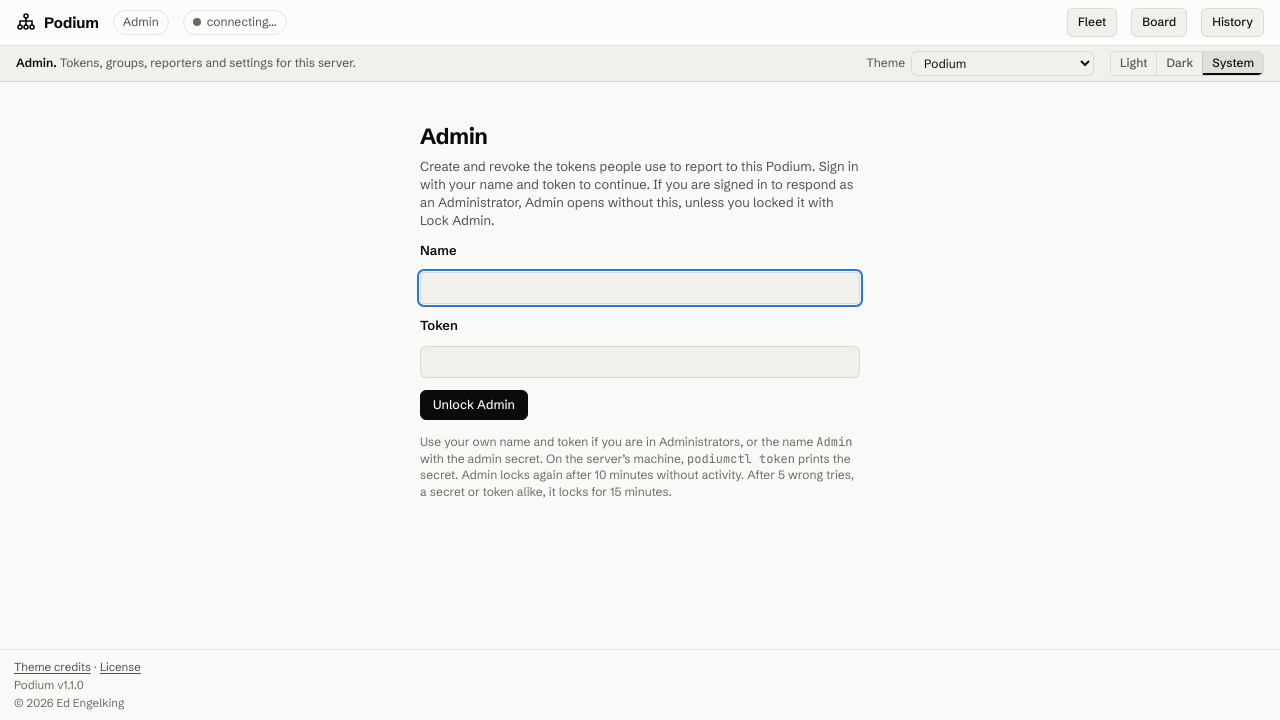
Admin lock screen › asks for the name as well when only a token is typed
In the password field labelled "Token": point(640, 362) [420, 346, 860, 378], type "right"
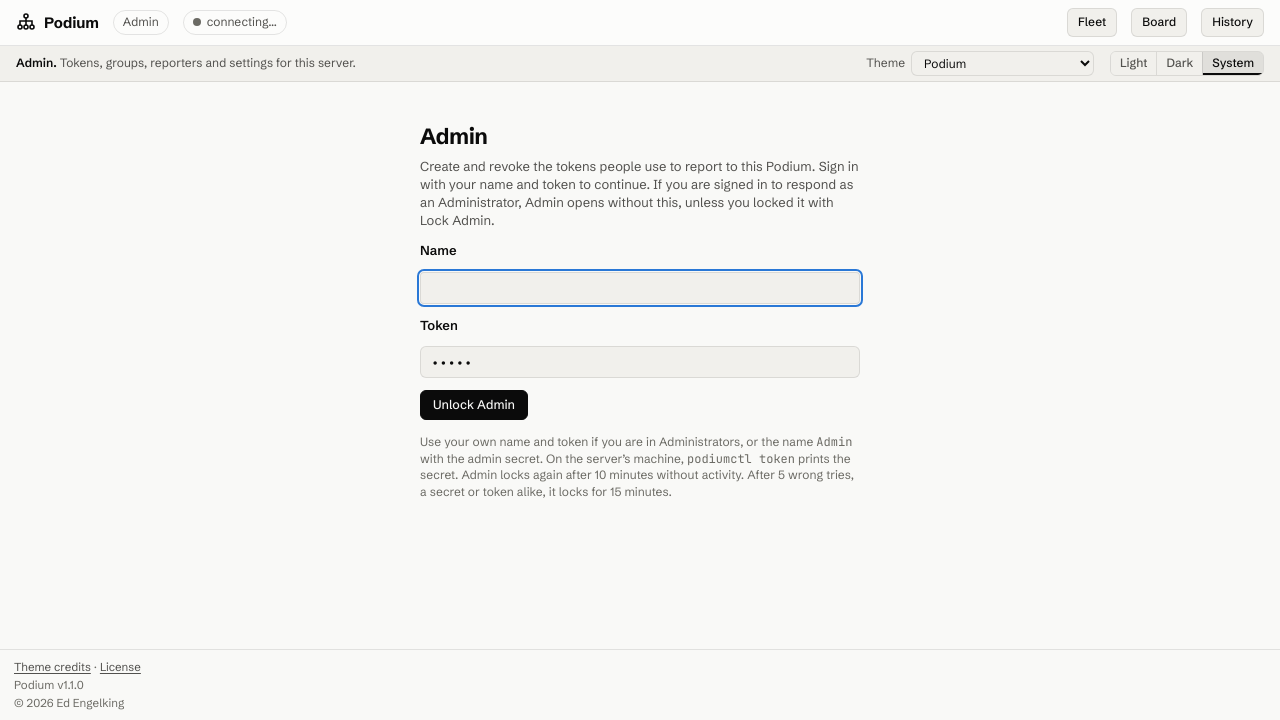
Click the button "Unlock Admin": point(474, 405) [420, 390, 528, 420]
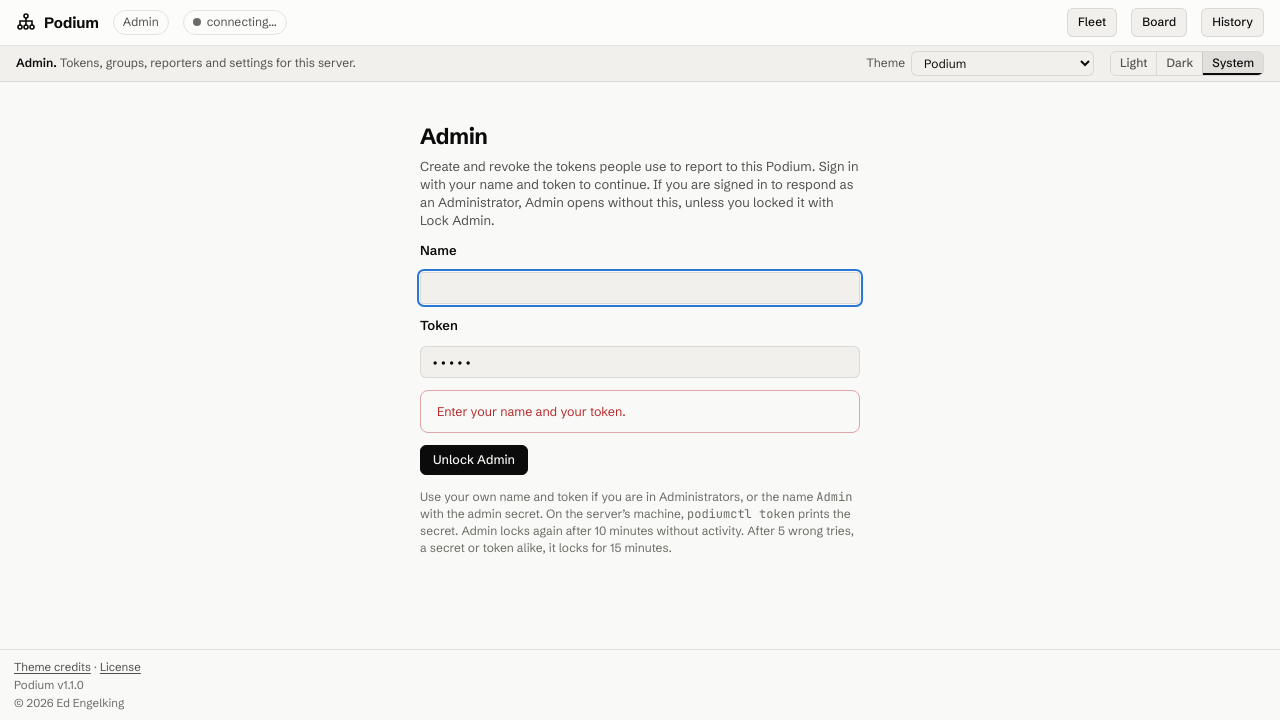
Now the message "Enter your name and your token." is shown, box [420, 390, 860, 433]
